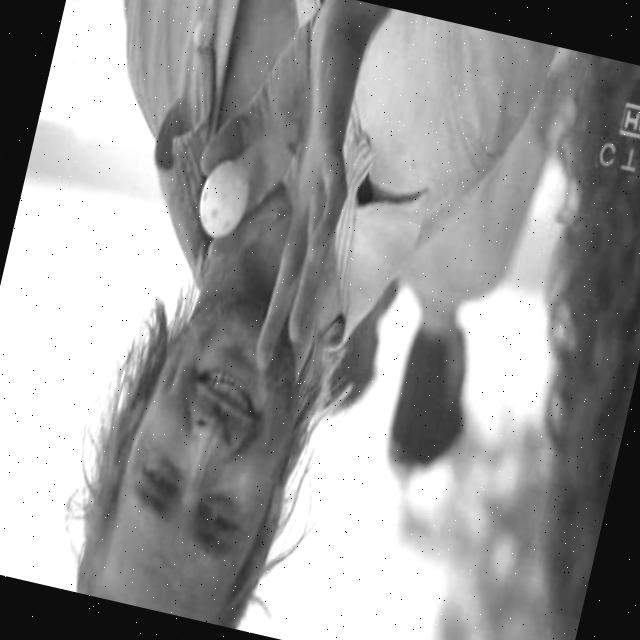ping-pong-ball: (190, 155, 256, 243)
